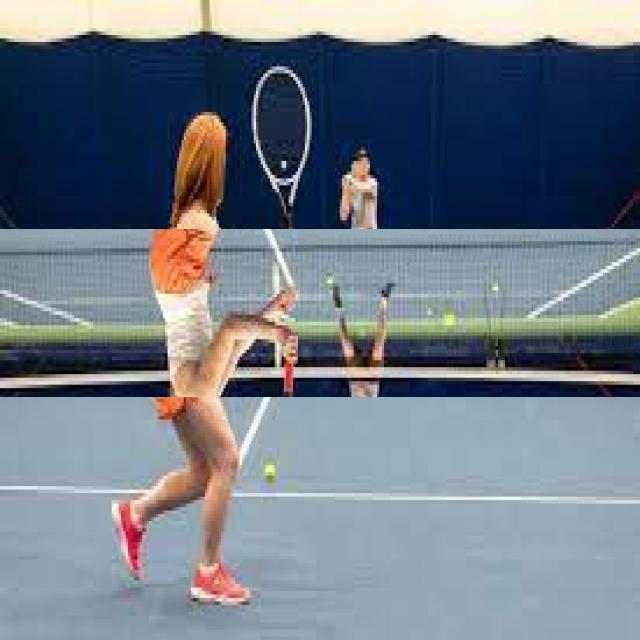net: (0, 229, 640, 397)
player: (116, 49, 312, 599)
